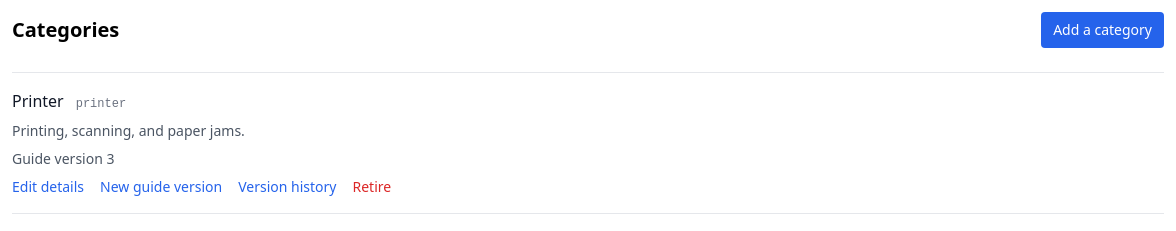
it: CategoryListPage — retire (FR-012) › CL-007: the confirmation states the consequence before it is confirmed
The width and height of the screenshot is (1176, 231).
Click the button "Retire" at (372, 187), box [352,177,391,197]
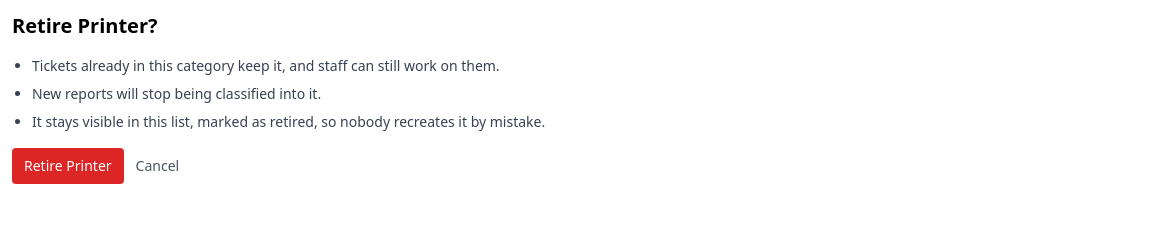
Check: the text "Retire Printer?" is shown, box [12,12,588,184]
Check: the text "Retire Printer?" shows "Tickets already in this category keep it", box [32,56,500,75]
Check: the text "Retire Printer?" shows "new reports will stop", box [32,84,321,103]
